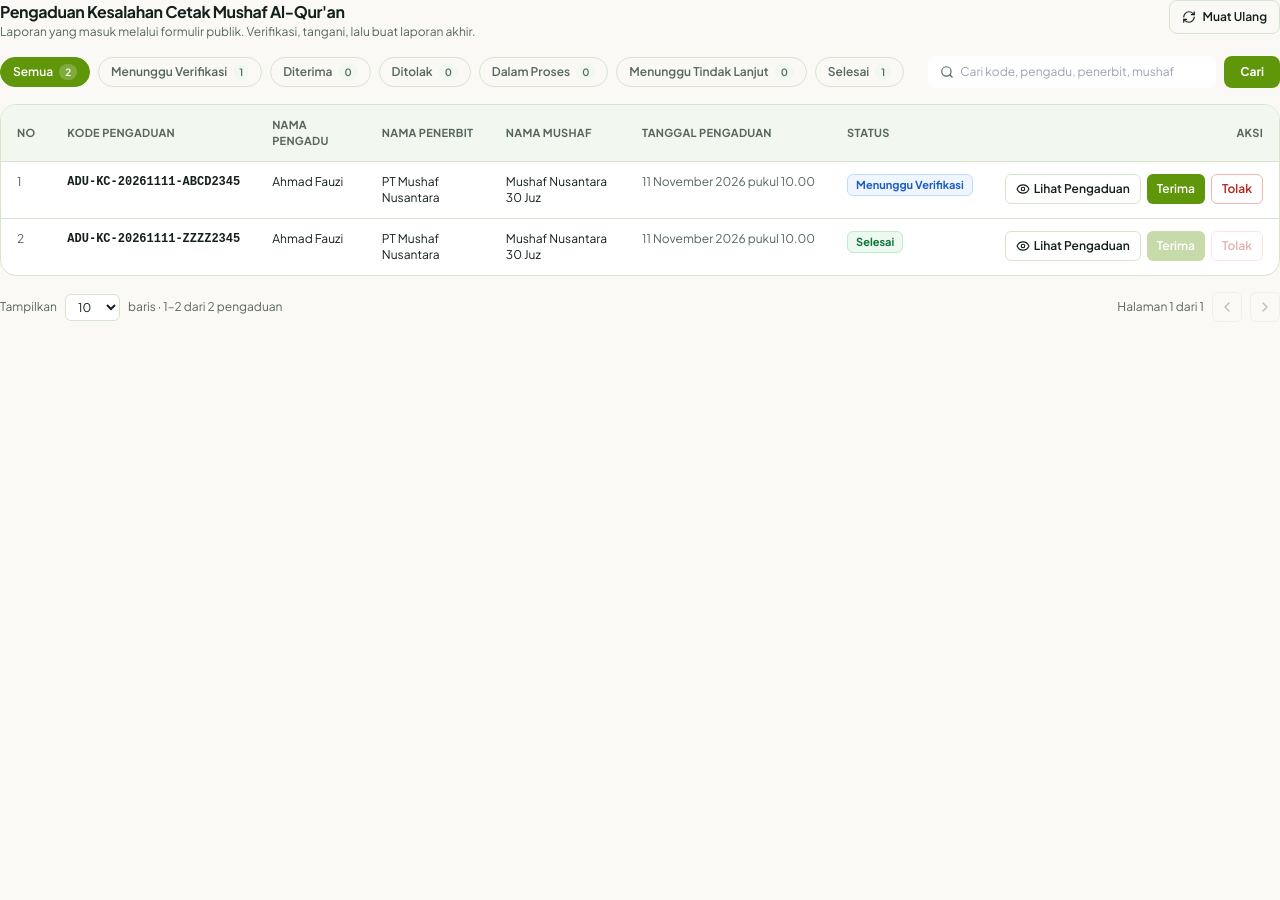
Test: ComplaintManagement › mewajibkan alasan dan konfirmasi untuk menolak pengaduan
Later steps or results of the test are not shown.
Click the button with aria-label "Tolak pengaduan ADU-KC-20261111-ABCD2345" at {"x": 1237, "y": 189}, box [1211,174,1263,204]
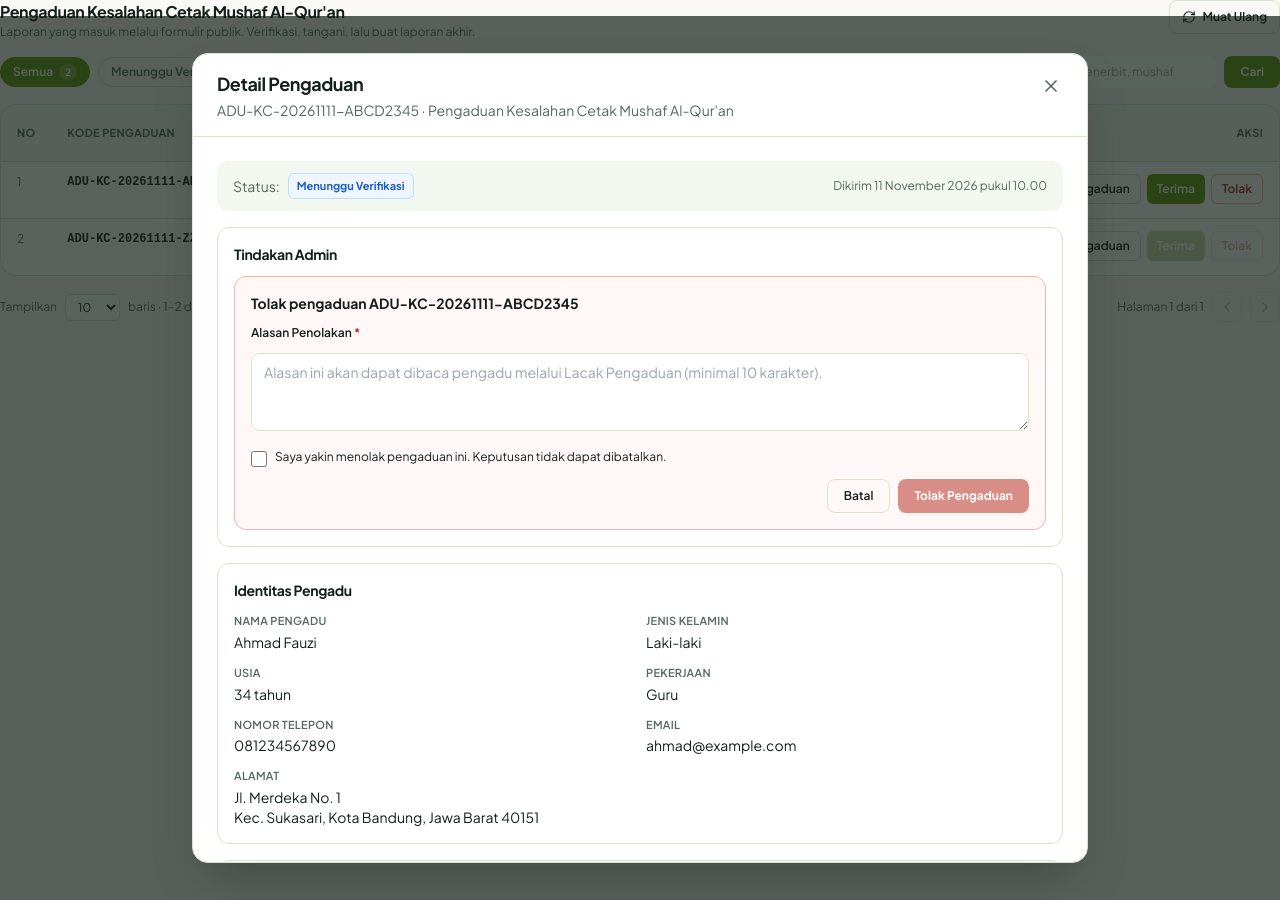
Check: the button "Tolak Pengaduan" is disabled, box [898,479,1029,513]
Replace the text in the text box labelled "Alasan Penolakan *" with "Data tidak lengkap sama sekali." at {"x": 640, "y": 392}, box [251,353,1029,431]
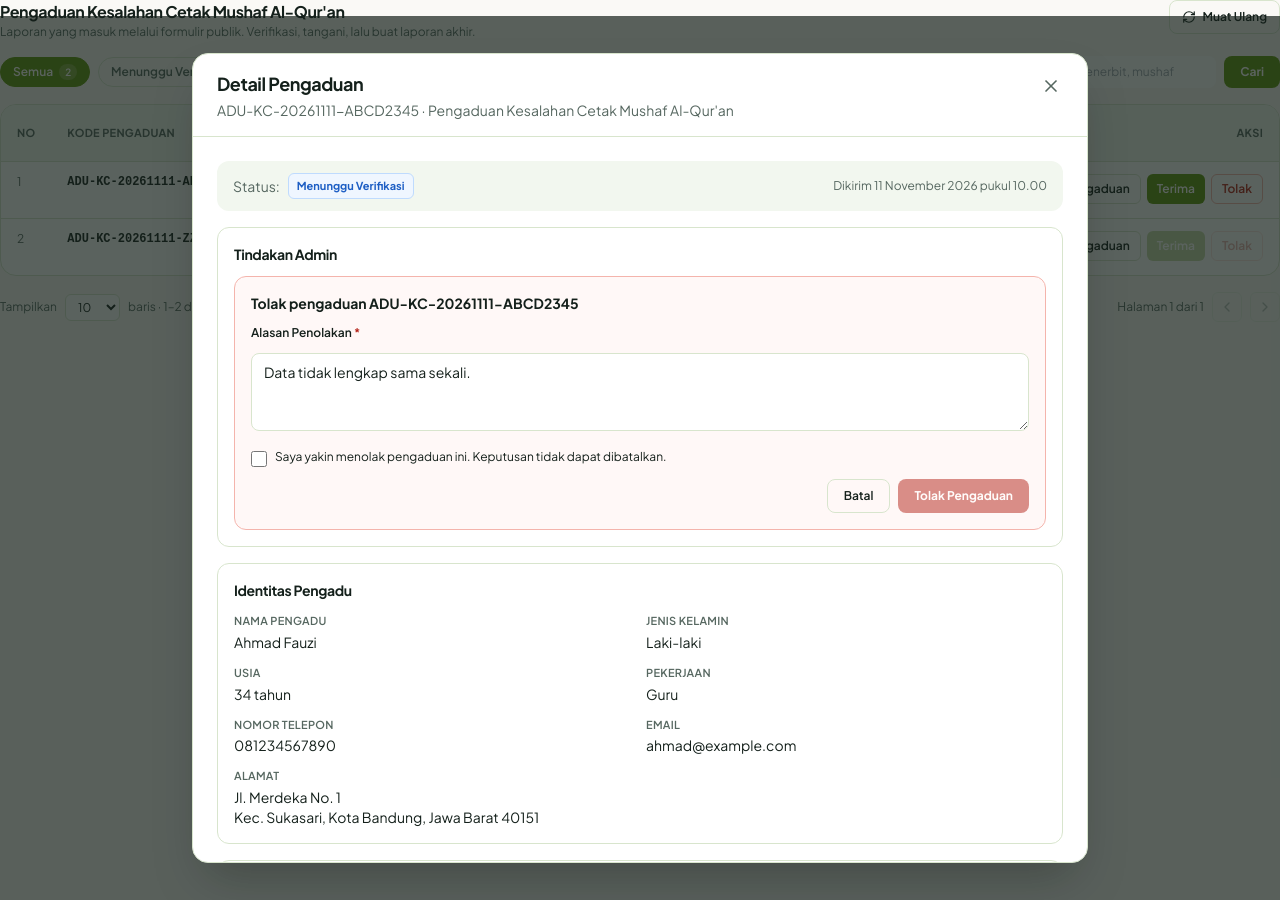
Check: the button "Tolak Pengaduan" is disabled, box [898,479,1029,513]
Click the checkbox at {"x": 259, "y": 459}, box [251,451,267,467]
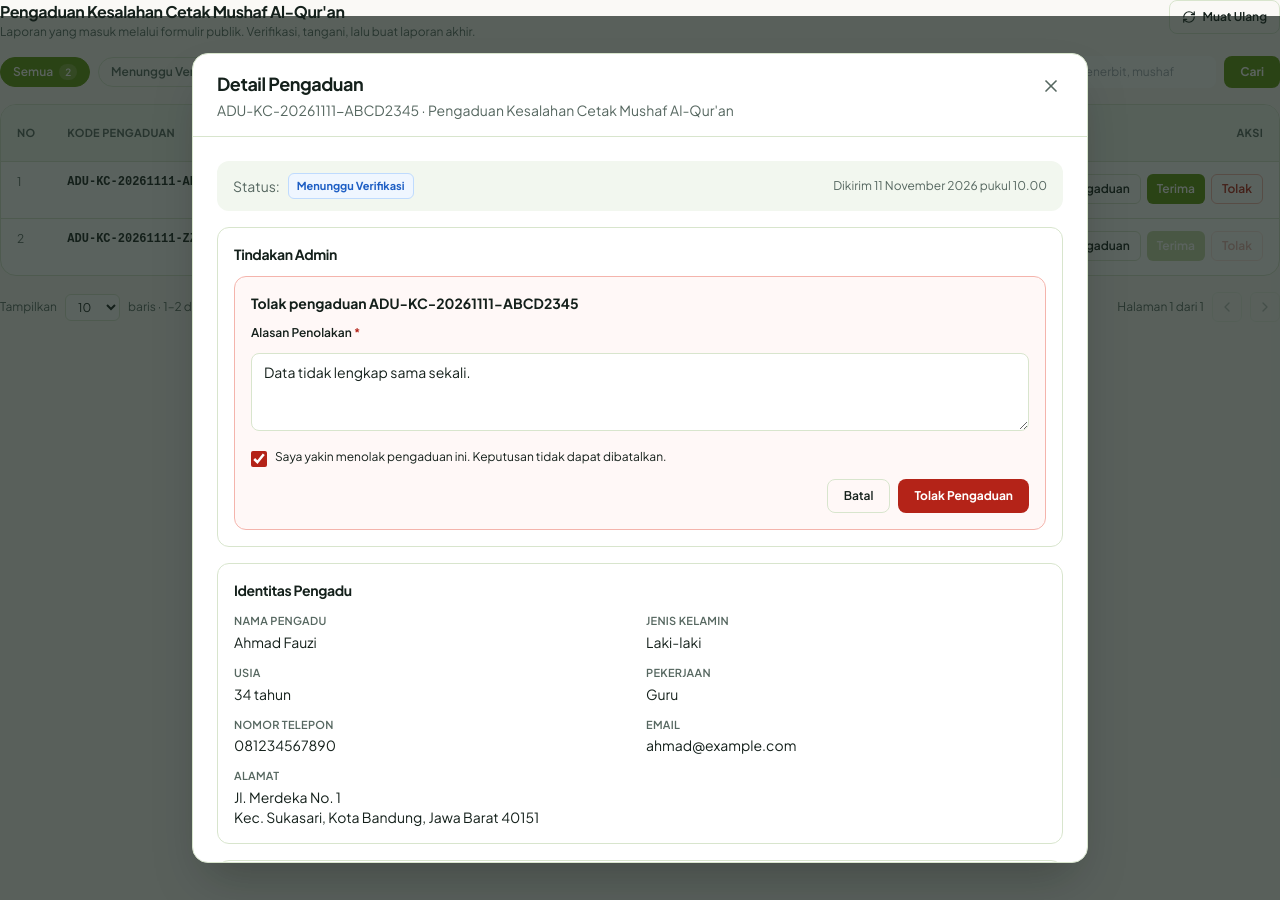
Check: the button "Tolak Pengaduan" is enabled, box [898,479,1029,513]
